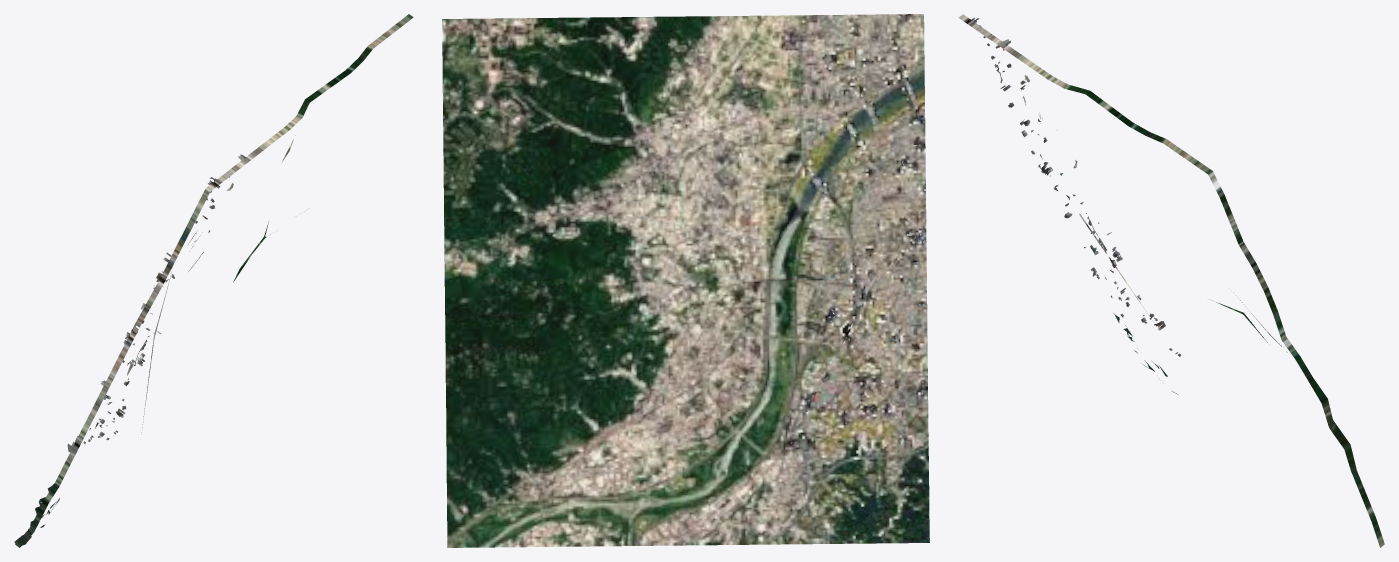
3 views of the same model, side by side, from view 1: azimuth 30°, elevation 25°; view 2: azimuth 150°, elevation 25°; view 3: azimuth 270°, elevation 25° (orthographic). The views are drawn at different scales.
Bounding box in the file's own units: 9778 × 9000 × 8286.
Materials: 1 (1 with a texture image).
